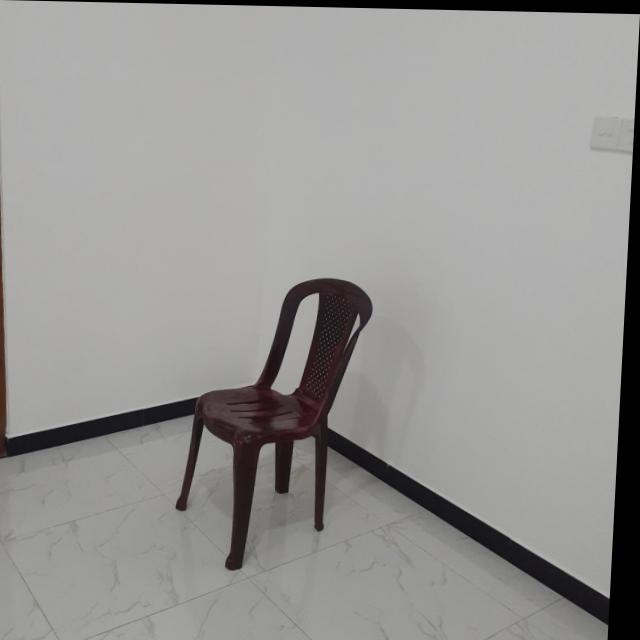Chair: (178, 271, 377, 573)
